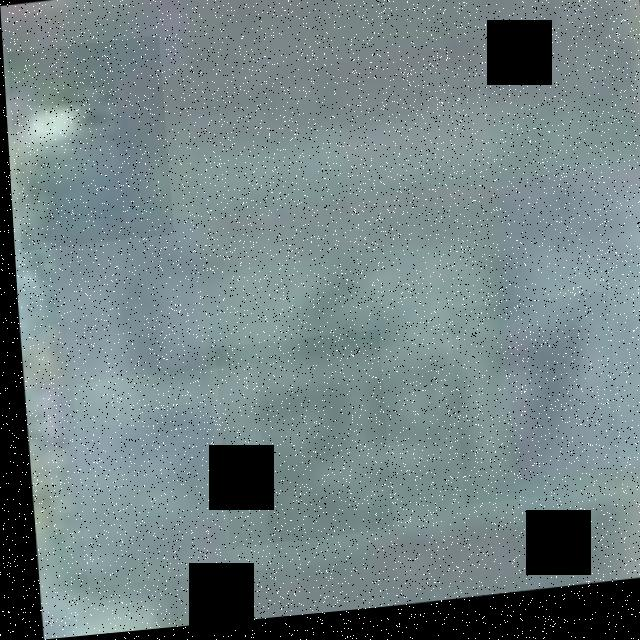6: (67, 368, 265, 589)
7: (444, 302, 616, 514)
9: (317, 317, 505, 530), (209, 336, 387, 552)
B: (5, 38, 171, 253)
